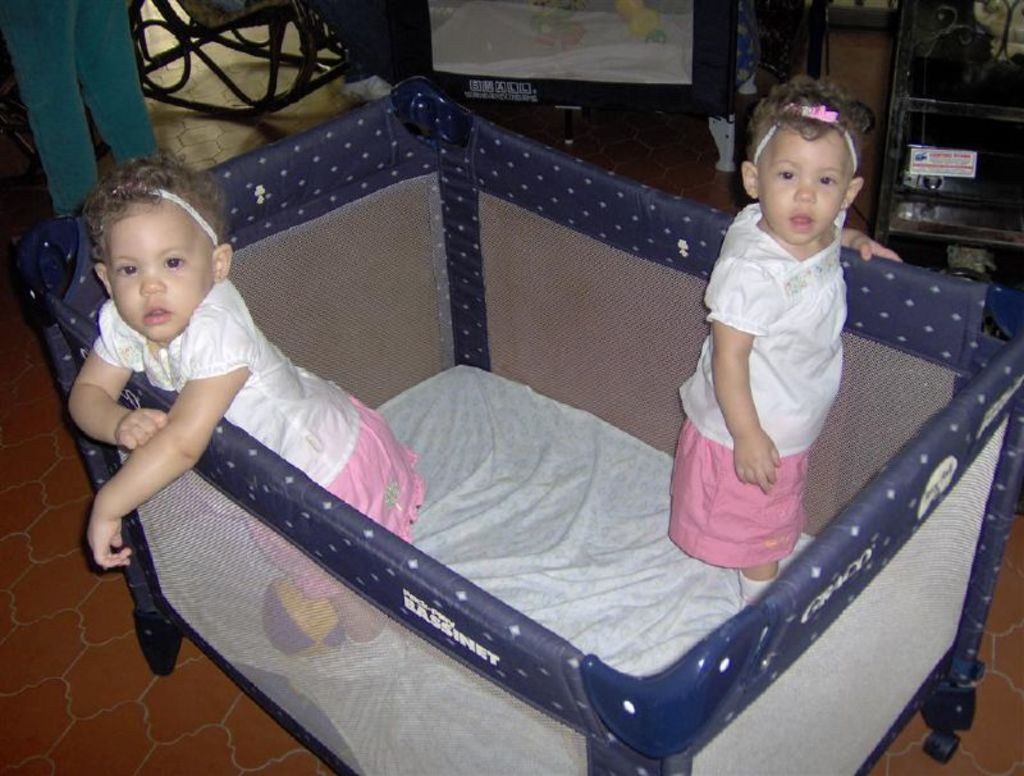Human-face: (106, 209, 216, 342), (755, 131, 842, 243)
